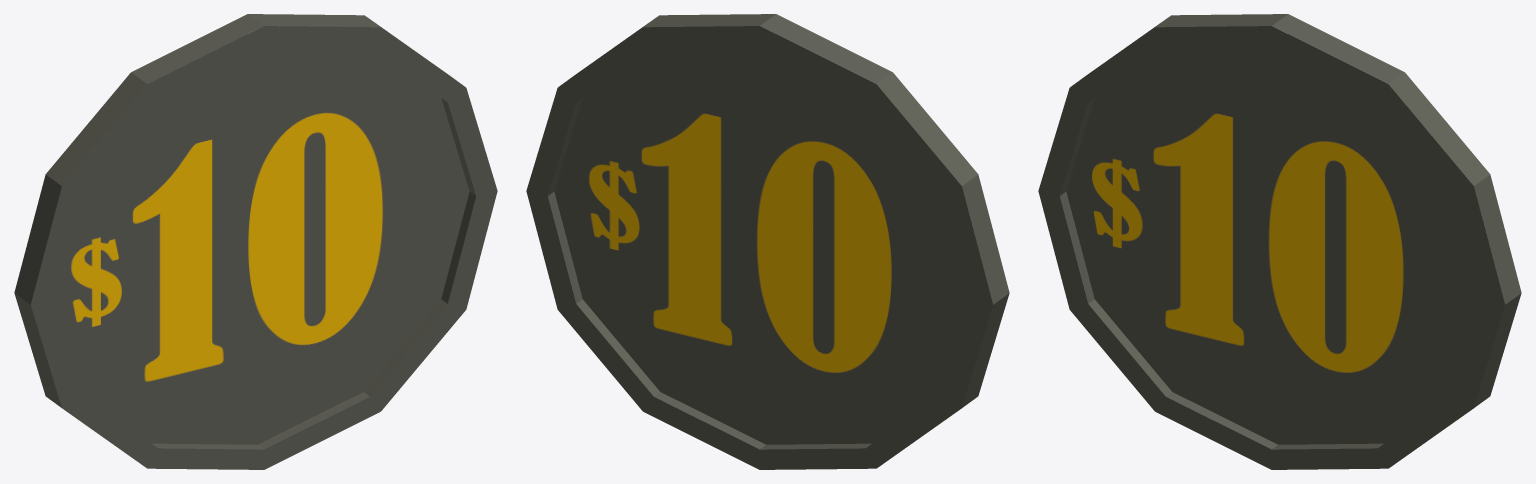
File: Moneda10.fbx
3 renders of one model, left to right at view 1: azimuth 30°, elevation 25°; view 2: azimuth 150°, elevation 25°; view 3: azimuth 330°, elevation 25°, orthographic.
Visible parts, largest first — view 1: Moneda_10.001; view 2: Moneda_10.001; view 3: Moneda_10.001.
Boxes of the visible parts, left/top/right/bottom form: Moneda_10.001: left=14, top=14, right=497, bottom=469; Moneda_10.001: left=526, top=14, right=1009, bottom=469; Moneda_10.001: left=1038, top=14, right=1521, bottom=469.
Bounding box in the file's own units: 0.2189 × 0.1989 × 0.0133.
